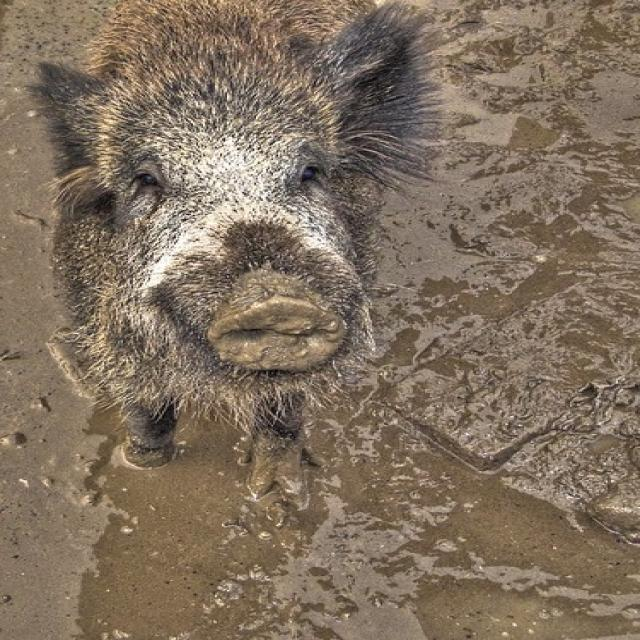boar: (16, 0, 450, 512)
